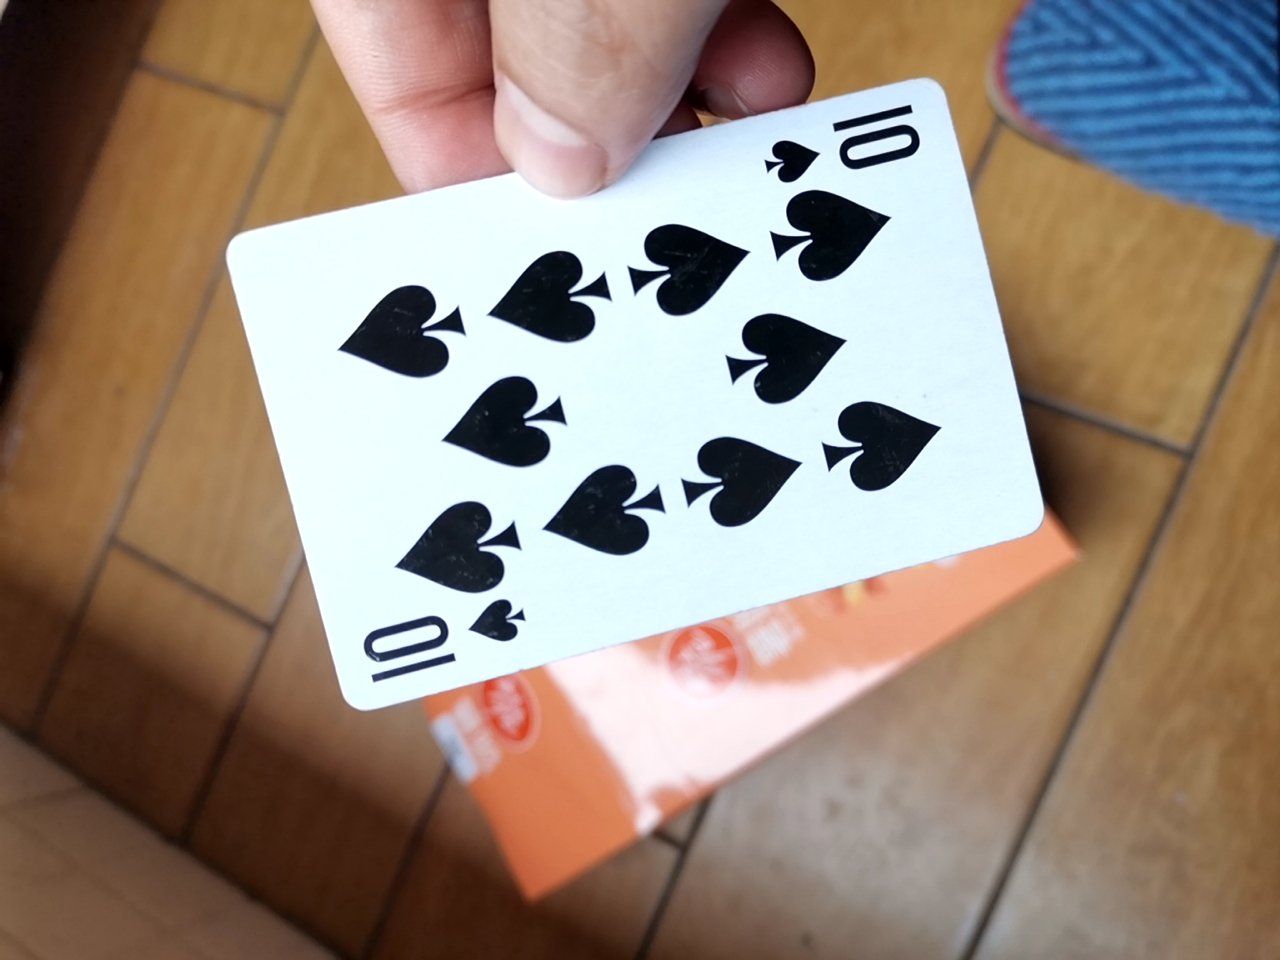ht 10: (205, 66, 1057, 742)
